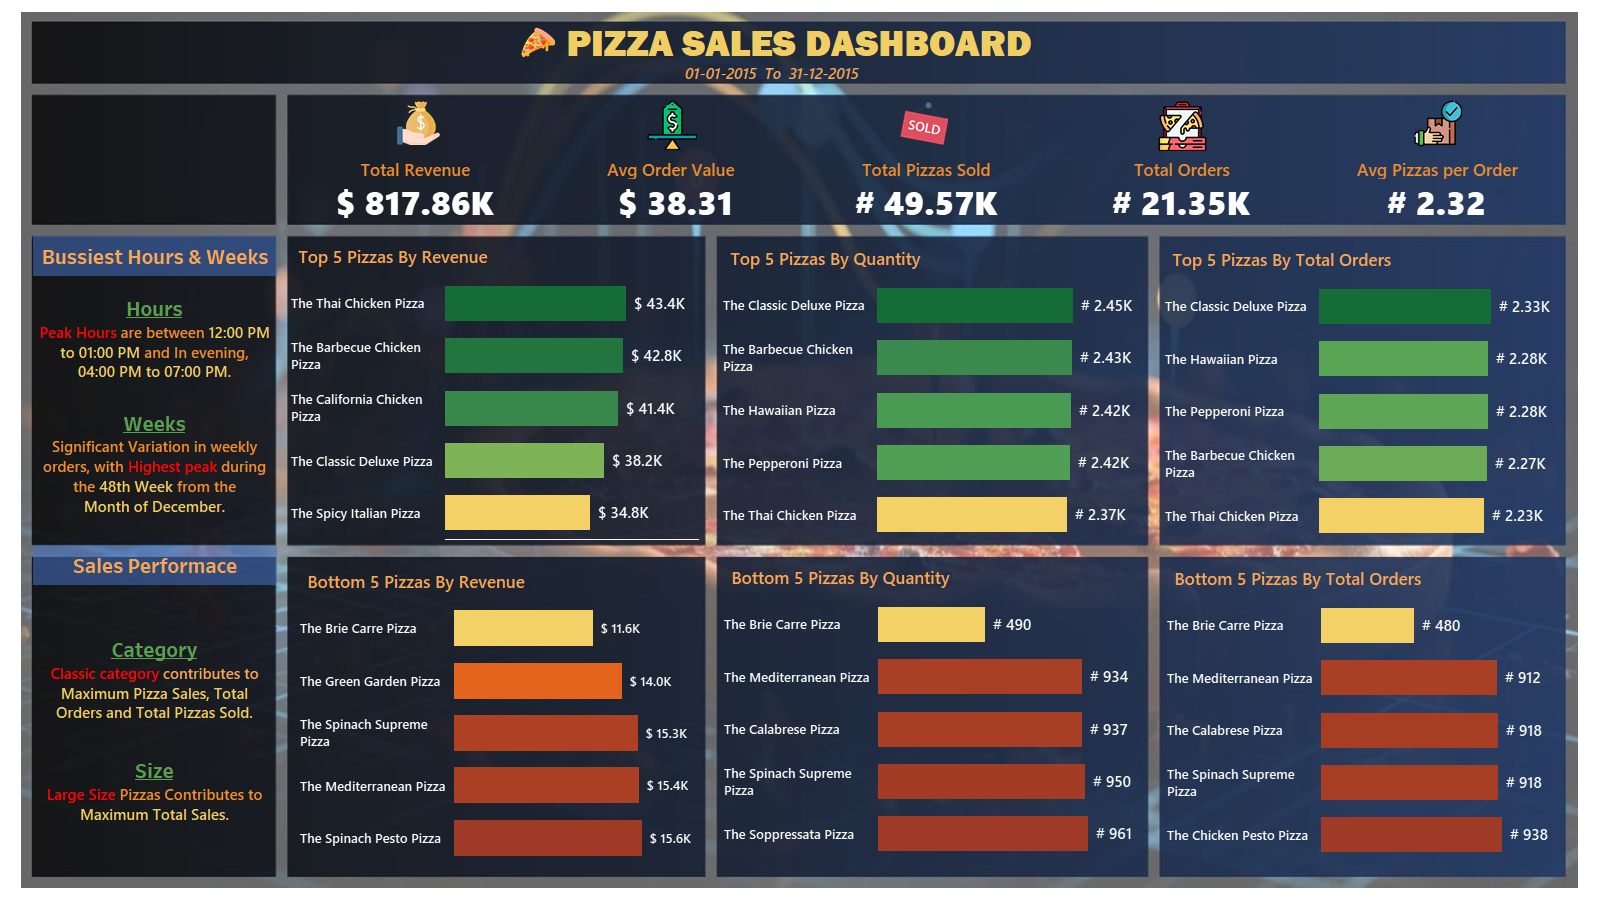

This screenshot's page, from the dashboard's own definition file:
{"tool":"tableau","page":{"name":"Best/ Worst","canvas":[1600,900],"ordinal":0},"visuals":[{"type":"image","param":"D:/INTERVIEW PREP/MOCK TABLEAU/Pizza sales Dashboard (MySQL + Tableau)/Raw_Files","box":[8,8,1584,884]},{"type":"text","box":[34,22,1530,43]},{"type":"image","param":"D:/INTERVIEW PREP/MOCK TABLEAU/Pizza sales Dashboard (MySQL + Tableau)/Pizza sal","box":[513,25,51,34]},{"type":"worksheet","title":"Max-Min Dates","mark":"Automatic","box":[527,61,491,24]},{"type":"image","param":"D:/INTERVIEW PREP/MOCK TABLEAU/Pizza sales Dashboard (MySQL + Tableau)/Pizza sal","box":[899,99,51,48]},{"type":"image","param":"D:/INTERVIEW PREP/MOCK TABLEAU/Pizza sales Dashboard (MySQL + Tableau)/Pizza sal","box":[1412,99,53,48]},{"type":"image","param":"D:/INTERVIEW PREP/MOCK TABLEAU/Pizza sales Dashboard (MySQL + Tableau)/Pizza sal","box":[646,100,53,50]},{"type":"image","param":"D:/INTERVIEW PREP/MOCK TABLEAU/Pizza sales Dashboard (MySQL + Tableau)/Pizza sal","box":[396,101,44,44]},{"type":"image","param":"D:/INTERVIEW PREP/MOCK TABLEAU/Pizza sales Dashboard (MySQL + Tableau)/Pizza sal","box":[1155,101,55,50]},{"type":"worksheet","title":"KPIs Banner","mark":"Automatic","box":[288,159,1277,66]},{"type":"text","box":[33,236,244,40]},{"type":"worksheet","title":"Top 5 Pizzas By Revenue","mark":"Automatic","rows":["pizza_name"],"cols":["Calculation_1177128361996488704"],"box":[285,239,413,300]},{"type":"worksheet","title":"Top 5 Pizzas By Quantity","mark":"Automatic","rows":["pizza_name"],"cols":["Calculation_1177128361997697027"],"box":[717,241,430,300]},{"type":"worksheet","title":"Top 5 Pizzas By Total Orders","mark":"Automatic","rows":["pizza_name"],"cols":["Calculation_1177128361996931073"],"box":[1159,242,404,300]},{"type":"text","box":[33,276,243,259]},{"type":"text","box":[33,545,244,40]},{"type":"worksheet","title":"Bottom 5 Pizzas By Quantity","mark":"Automatic","rows":["pizza_name"],"cols":["Calculation_1177128361997697027"],"box":[718,560,431,300]},{"type":"worksheet","title":"Bottom 5 Pizzas By Total Orders","mark":"Automatic","rows":["pizza_name"],"cols":["Calculation_1177128361996931073"],"box":[1161,561,401,300]},{"type":"worksheet","title":"Bottom 5 Pizzas By Revenue","mark":"Automatic","rows":["pizza_name"],"cols":["Calculation_1177128361996488704"],"box":[294,564,411,300]},{"type":"text","box":[33,585,243,290]}]}

Visuals, with their boxes in screenshot pixels (x1, y1, x2, y2), scaled from the page's 1600x900 canvas onto the 1600x900 screenshot:
image: [left=8, top=8, right=1592, bottom=892]
text: [left=34, top=22, right=1564, bottom=65]
image: [left=513, top=25, right=564, bottom=59]
"Max-Min Dates" worksheet: [left=527, top=61, right=1018, bottom=85]
image: [left=899, top=99, right=950, bottom=147]
image: [left=1412, top=99, right=1465, bottom=147]
image: [left=646, top=100, right=699, bottom=150]
image: [left=396, top=101, right=440, bottom=145]
image: [left=1155, top=101, right=1210, bottom=151]
"KPIs Banner" worksheet: [left=288, top=159, right=1565, bottom=225]
text: [left=33, top=236, right=277, bottom=276]
"Top 5 Pizzas By Revenue" worksheet: [left=285, top=239, right=698, bottom=539]
"Top 5 Pizzas By Quantity" worksheet: [left=717, top=241, right=1147, bottom=541]
"Top 5 Pizzas By Total Orders" worksheet: [left=1159, top=242, right=1563, bottom=542]
text: [left=33, top=276, right=276, bottom=535]
text: [left=33, top=545, right=277, bottom=585]
"Bottom 5 Pizzas By Quantity" worksheet: [left=718, top=560, right=1149, bottom=860]
"Bottom 5 Pizzas By Total Orders" worksheet: [left=1161, top=561, right=1562, bottom=861]
"Bottom 5 Pizzas By Revenue" worksheet: [left=294, top=564, right=705, bottom=864]
text: [left=33, top=585, right=276, bottom=875]
